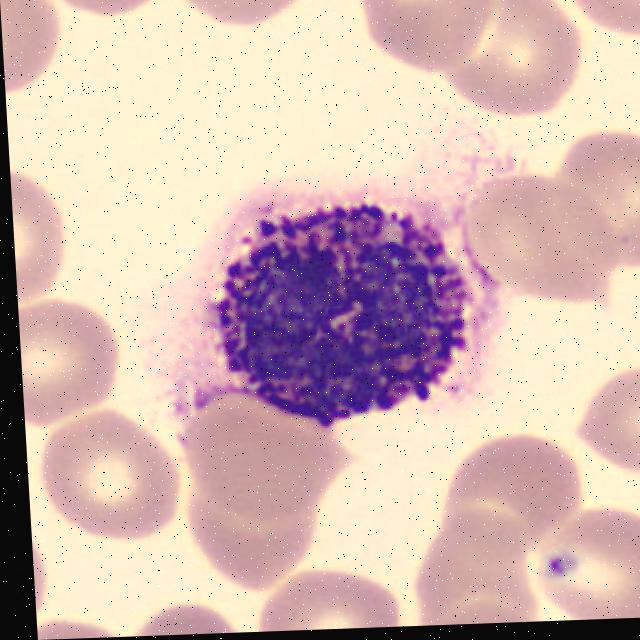basophil: (204, 174, 484, 423)
rbc: (186, 380, 344, 519), (33, 396, 189, 531), (456, 169, 617, 299), (429, 0, 591, 127), (168, 482, 333, 594), (438, 424, 588, 538), (18, 296, 128, 437), (410, 505, 537, 623), (550, 119, 640, 274), (536, 499, 640, 621), (357, 0, 511, 80), (252, 550, 402, 632), (10, 159, 72, 305), (570, 354, 640, 481), (0, 0, 62, 109), (424, 571, 528, 626), (168, 0, 320, 36), (124, 593, 234, 637), (546, 0, 640, 49), (31, 515, 61, 625), (51, 0, 167, 25), (36, 606, 118, 640)
